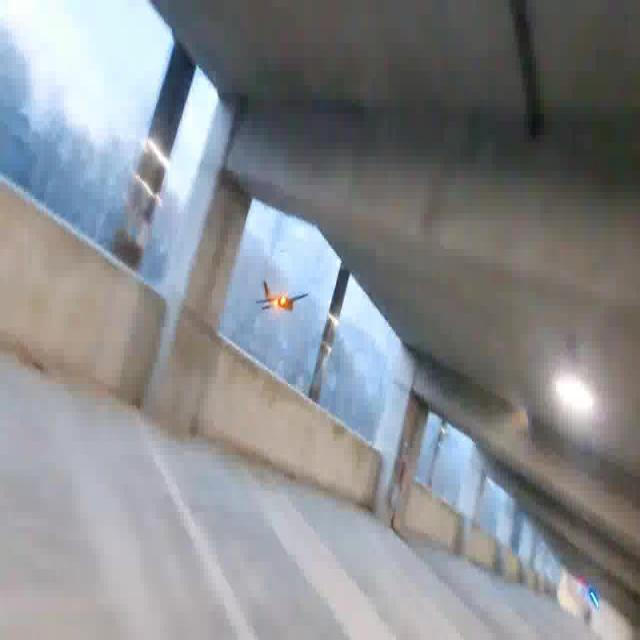iha: (252, 278, 312, 323)
